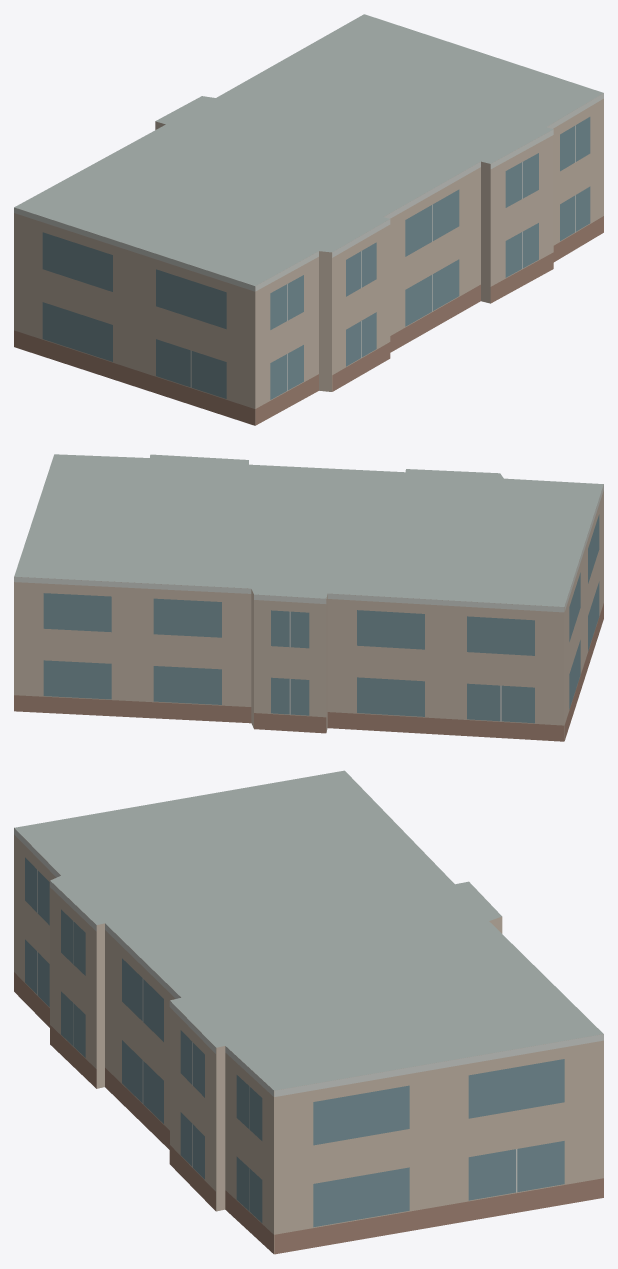
The model's file is survey-upis-32500498.glb.
3 renders of one model, top to bottom at view 1: azimuth 30°, elevation 25°; view 2: azimuth 150°, elevation 25°; view 3: azimuth 270°, elevation 25°, orthographic. The views are drawn at different scales.
Visible parts, largest first — view 1: survey-upis-32500498.tmp; view 2: survey-upis-32500498.tmp; view 3: survey-upis-32500498.tmp.
Part boxes in pixels (x1,y1,x2,y2): survey-upis-32500498.tmp: (14, 14, 603, 425); survey-upis-32500498.tmp: (14, 454, 603, 741); survey-upis-32500498.tmp: (14, 770, 603, 1254).
Bounding box in the file's own units: 25.59 × 6.1 × 19.92.
